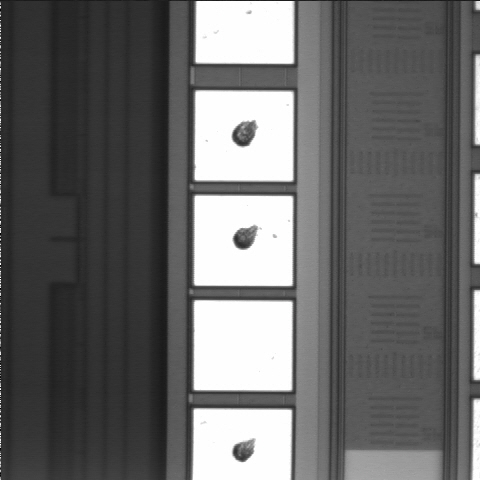pad: (194, 300, 292, 391), (194, 196, 293, 286), (195, 91, 293, 181)
